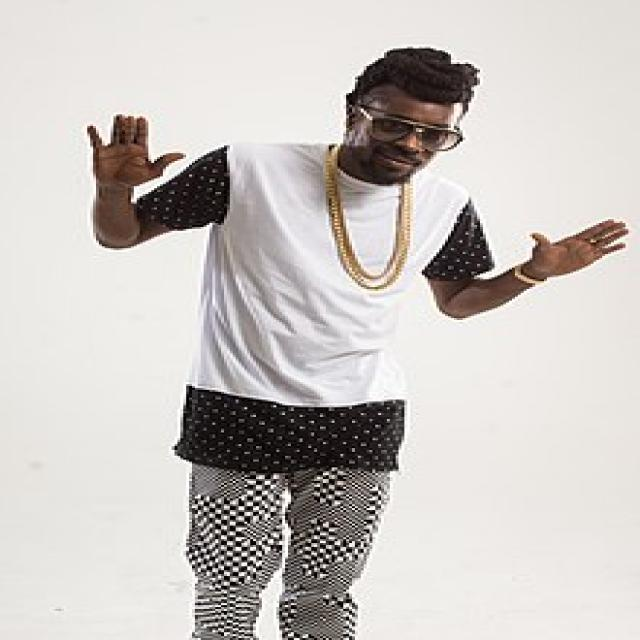human: (84, 51, 588, 640)
